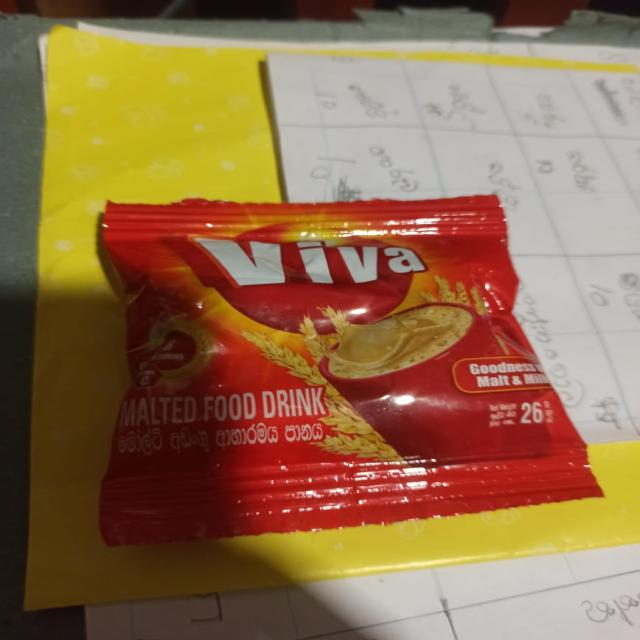Viva Malt: (64, 162, 624, 530)
